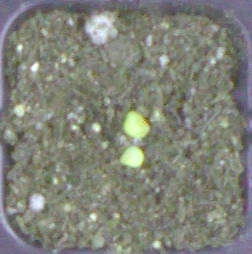pepper seed: (46, 61, 192, 230), (44, 40, 195, 179)
